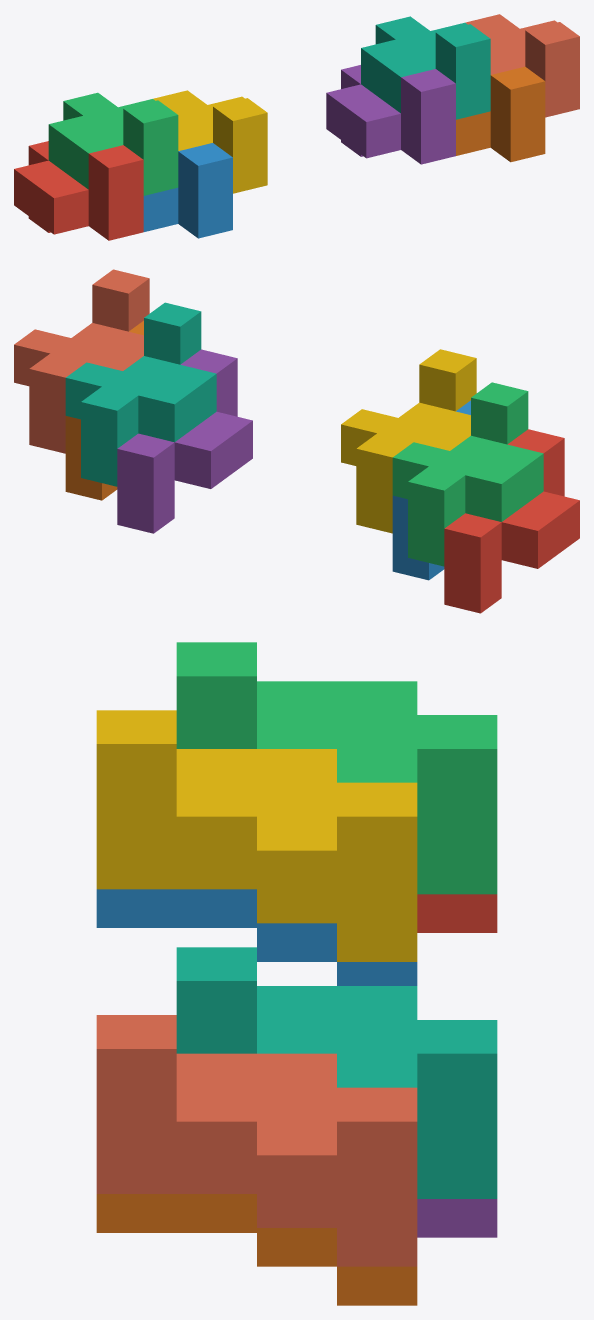
The model's file is tiling.obj.
3 renders of one model, top to bottom at view 1: azimuth 30°, elevation 25°; view 2: azimuth 150°, elevation 25°; view 3: azimuth 270°, elevation 25°, orthographic. The views are drawn at different scales.
Parts seen in each view (by area): view 1: copy_1_domain_1, copy_1_domain_5, copy_1_domain_3, copy_1_domain_7, copy_1_domain_8, copy_1_domain_4, copy_1_domain_6, copy_1_domain_2; view 2: copy_1_domain_3, copy_1_domain_7, copy_1_domain_1, copy_1_domain_5, copy_1_domain_4, copy_1_domain_8, copy_1_domain_6, copy_1_domain_2; view 3: copy_1_domain_4, copy_1_domain_8, copy_1_domain_3, copy_1_domain_7, copy_1_domain_6, copy_1_domain_2, copy_1_domain_1, copy_1_domain_5.
Part boxes in pixels (x1=…): copy_1_domain_1: x1=14, y1=141, x2=143, y2=240; copy_1_domain_5: x1=326, y1=65, x2=455, y2=164; copy_1_domain_3: x1=48, y1=92, x2=178, y2=195; copy_1_domain_7: x1=361, y1=16, x2=490, y2=119; copy_1_domain_8: x1=465, y1=14, x2=579, y2=117; copy_1_domain_4: x1=153, y1=90, x2=267, y2=193; copy_1_domain_6: x1=456, y1=66, x2=545, y2=162; copy_1_domain_2: x1=143, y1=143, x2=232, y2=238; copy_1_domain_3: x1=392, y1=382, x2=543, y2=566; copy_1_domain_7: x1=65, y1=302, x2=216, y2=486; copy_1_domain_1: x1=444, y1=429, x2=579, y2=613; copy_1_domain_5: x1=117, y1=349, x2=252, y2=533; copy_1_domain_4: x1=341, y1=349, x2=476, y2=533; copy_1_domain_8: x1=14, y1=269, x2=149, y2=453; copy_1_domain_6: x1=65, y1=320, x2=143, y2=500; copy_1_domain_2: x1=392, y1=400, x2=470, y2=580; copy_1_domain_4: x1=96, y1=710, x2=417, y2=961; copy_1_domain_8: x1=96, y1=1015, x2=417, y2=1266; copy_1_domain_3: x1=176, y1=642, x2=497, y2=894; copy_1_domain_7: x1=176, y1=947, x2=497, y2=1198; copy_1_domain_6: x1=96, y1=1194, x2=417, y2=1305; copy_1_domain_2: x1=96, y1=889, x2=417, y2=985; copy_1_domain_1: x1=417, y1=894, x2=497, y2=932; copy_1_domain_5: x1=417, y1=1199, x2=497, y2=1237.
Size of the model in its own units: 15 by 4 by 5.
